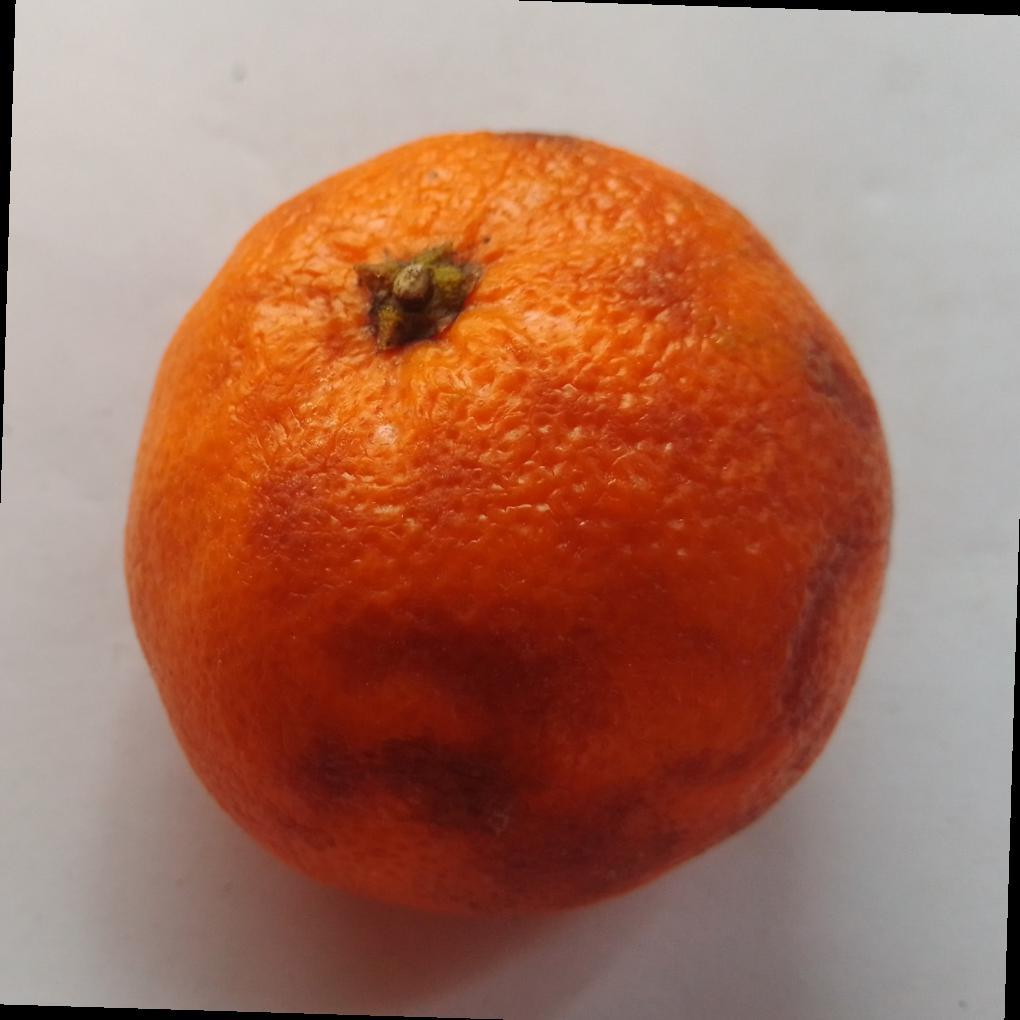FreshOrange: (121, 132, 895, 925)
